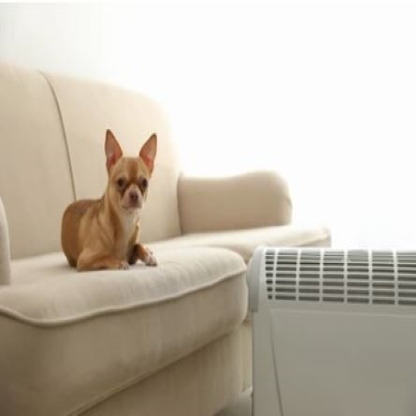chihuahua: (60, 126, 163, 274)
